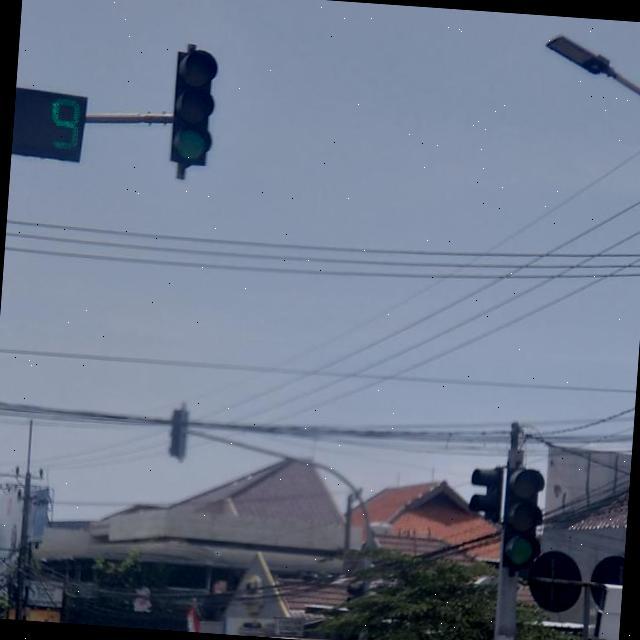green_light: (168, 46, 220, 168), (498, 466, 548, 576)
